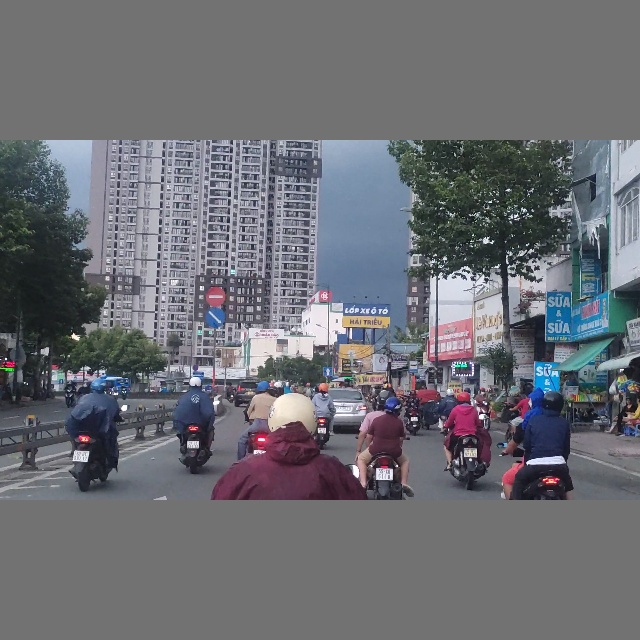I.407a: (324, 367, 333, 376)
I.434a: (408, 360, 418, 373)
P.102: (205, 287, 226, 306)
R.302a: (204, 308, 227, 328)
